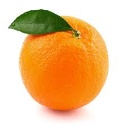orange: (18, 10, 111, 111)
